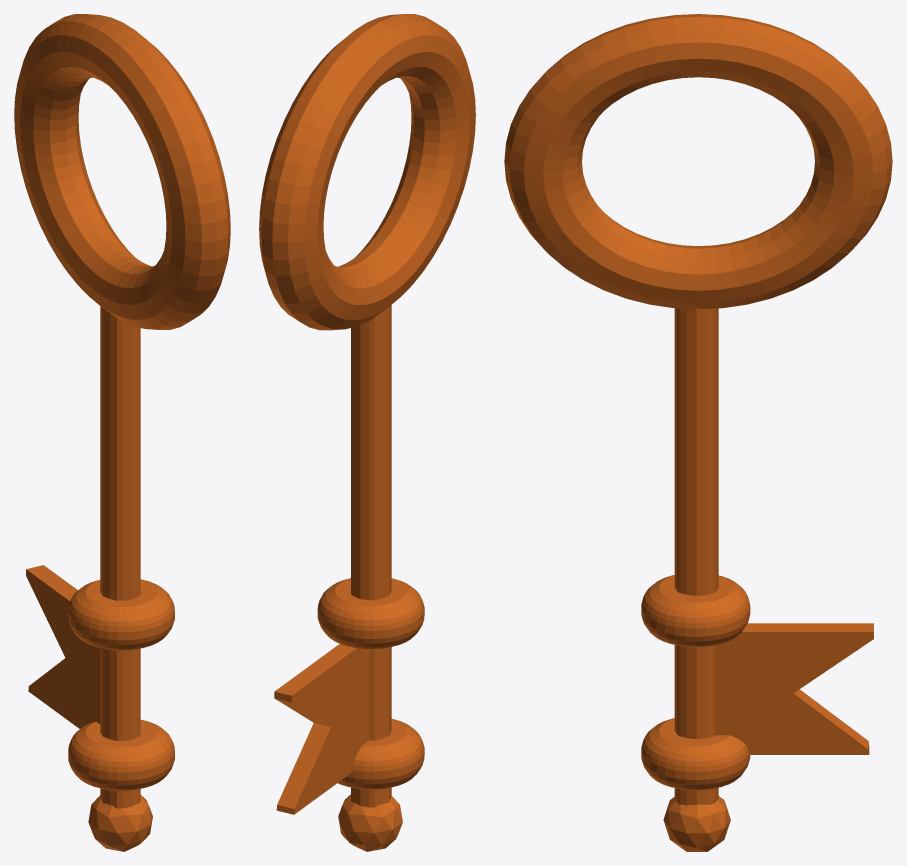
File: Key.obj
3 renders of one model, left to right at view 1: azimuth 30°, elevation 25°; view 2: azimuth 150°, elevation 25°; view 3: azimuth 270°, elevation 25°, orthographic. The views are drawn at different scales.
Visible parts, largest first — view 1: Torus, Cube, Cube.001, Cylinder.001, Cylinder, Icosphere; view 2: Torus, Cube, Cube.001, Cylinder.001, Cylinder, Icosphere; view 3: Torus, Cube, Cube.001, Cylinder.001, Cylinder, Icosphere.
Part boxes in pixels (x1,y1,x2,y2): Torus: (14,14,230,329); Cube: (100,306,140,808); Cube.001: (26,565,100,728); Cylinder.001: (68,579,174,650); Cylinder: (68,719,174,790); Icosphere: (88,795,152,851); Torus: (259,14,475,330); Cube: (351,305,391,807); Cube.001: (274,644,368,814); Cylinder.001: (317,578,424,649); Cylinder: (337,719,424,789); Icosphere: (338,794,402,851); Torus: (504,14,892,308); Cube: (674,308,718,805); Cube.001: (715,623,873,754); Cylinder.001: (641,575,750,647); Cylinder: (641,718,750,790); Icosphere: (663,796,730,851).
Bounding box in the file's own units: 0.5959 × 5.03 × 2.12.
